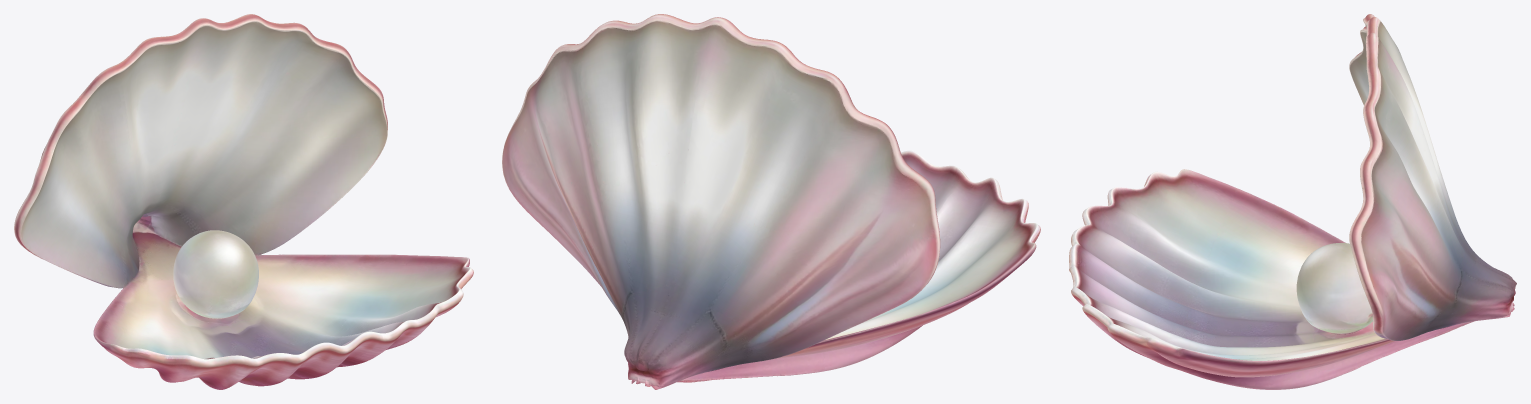
File: Conchiglia.glb
The picture shows the model from 3 angles, left to right: view 1: azimuth 30°, elevation 25°; view 2: azimuth 150°, elevation 25°; view 3: azimuth 270°, elevation 25°; orthographic projection. The views are drawn at different scales.
Size of the model in its own units: 1.89 by 1.5 by 1.9.
Materials: 1 (1 with a texture image).
